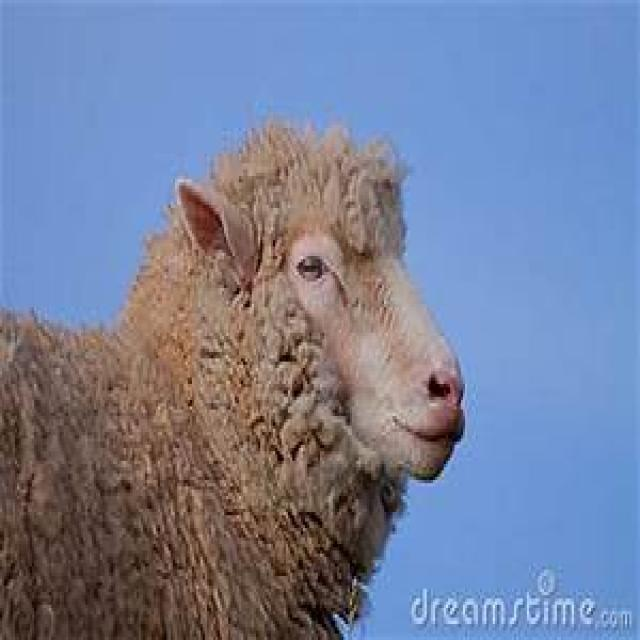animal: (0, 131, 470, 640)
